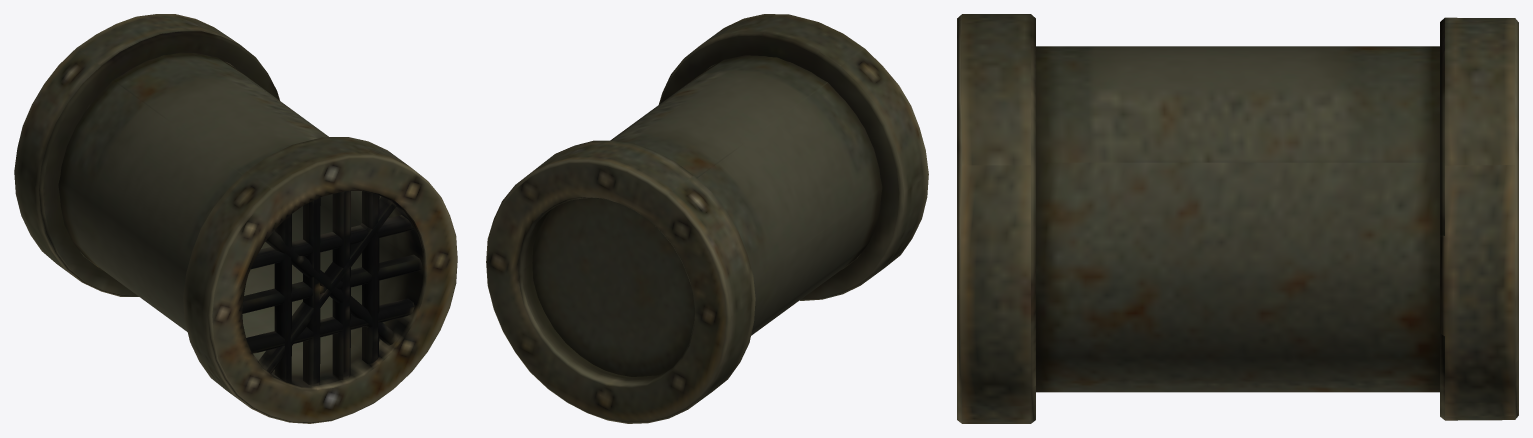
File: pipe_round_grated_flange.fbx
3 views of the same model, side by side, from view 1: azimuth 30°, elevation 25°; view 2: azimuth 150°, elevation 25°; view 3: azimuth 270°, elevation 25° (orthographic). The views are drawn at different scales.
Visible parts, largest first — view 1: pipe_round_grated_flange; view 2: pipe_round_grated_flange; view 3: pipe_round_grated_flange.
Boxes of the visible parts, x1=… form: pipe_round_grated_flange: x1=14, y1=14, x2=457, y2=423; pipe_round_grated_flange: x1=486, y1=14, x2=928, y2=423; pipe_round_grated_flange: x1=957, y1=14, x2=1518, y2=423.
Size of the model in its own units: 68.64 by 68.85 by 94.54.
